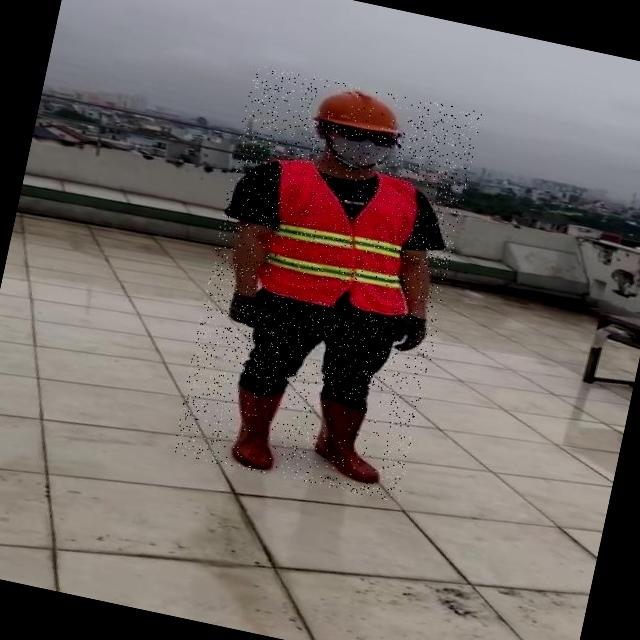boots: (303, 394, 392, 484), (217, 378, 295, 472)
gloves: (197, 271, 301, 358), (379, 288, 452, 366)
helmet: (312, 80, 411, 140)
vest: (253, 154, 434, 318)
